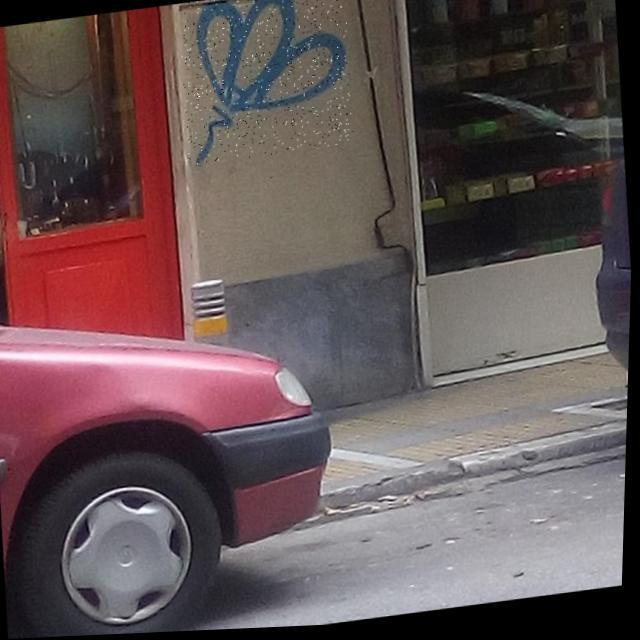-: (174, 0, 358, 167)
